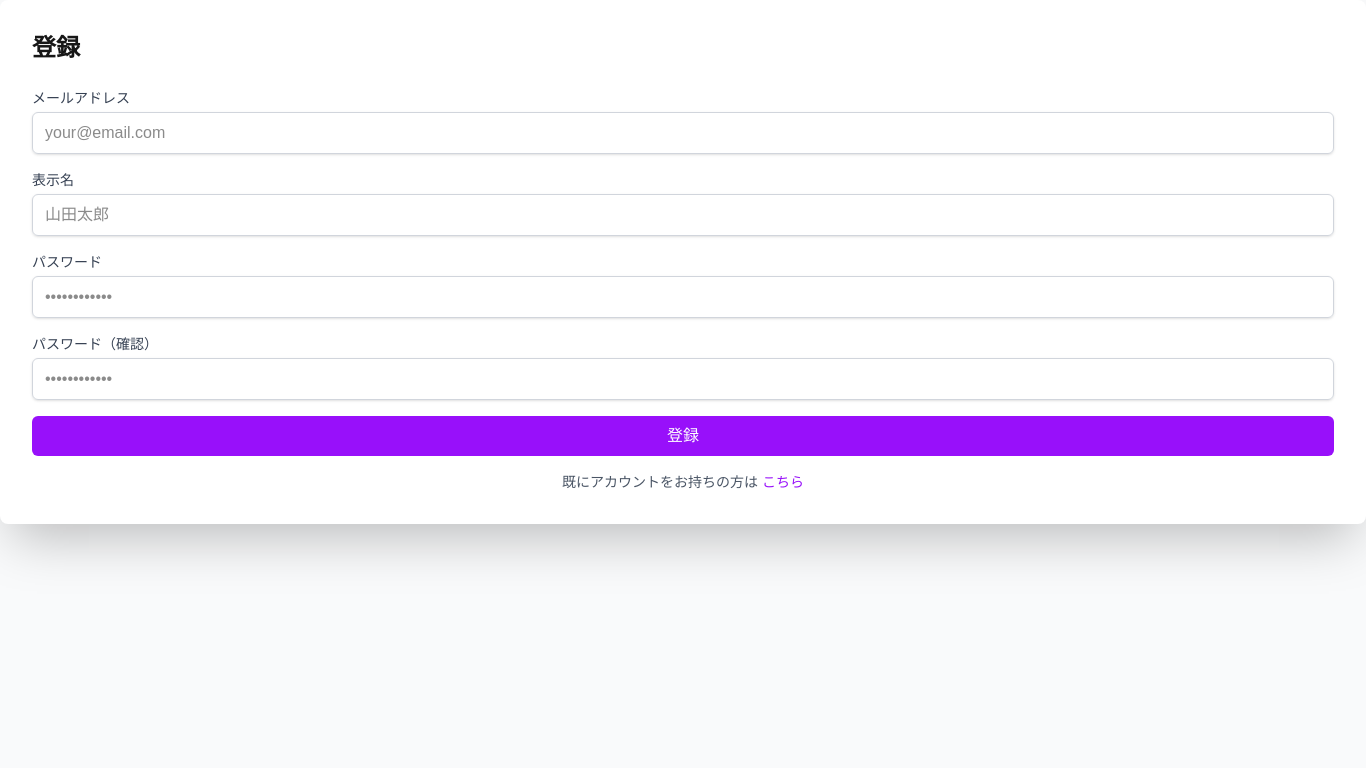
Test: RegisterForm › バリデーションエラー › メールアドレス形式が不正な場合エラーが表示される
Type "invalid-email" into the field labelled "メールアドレス" at (683, 133), box [32,112,1334,154]
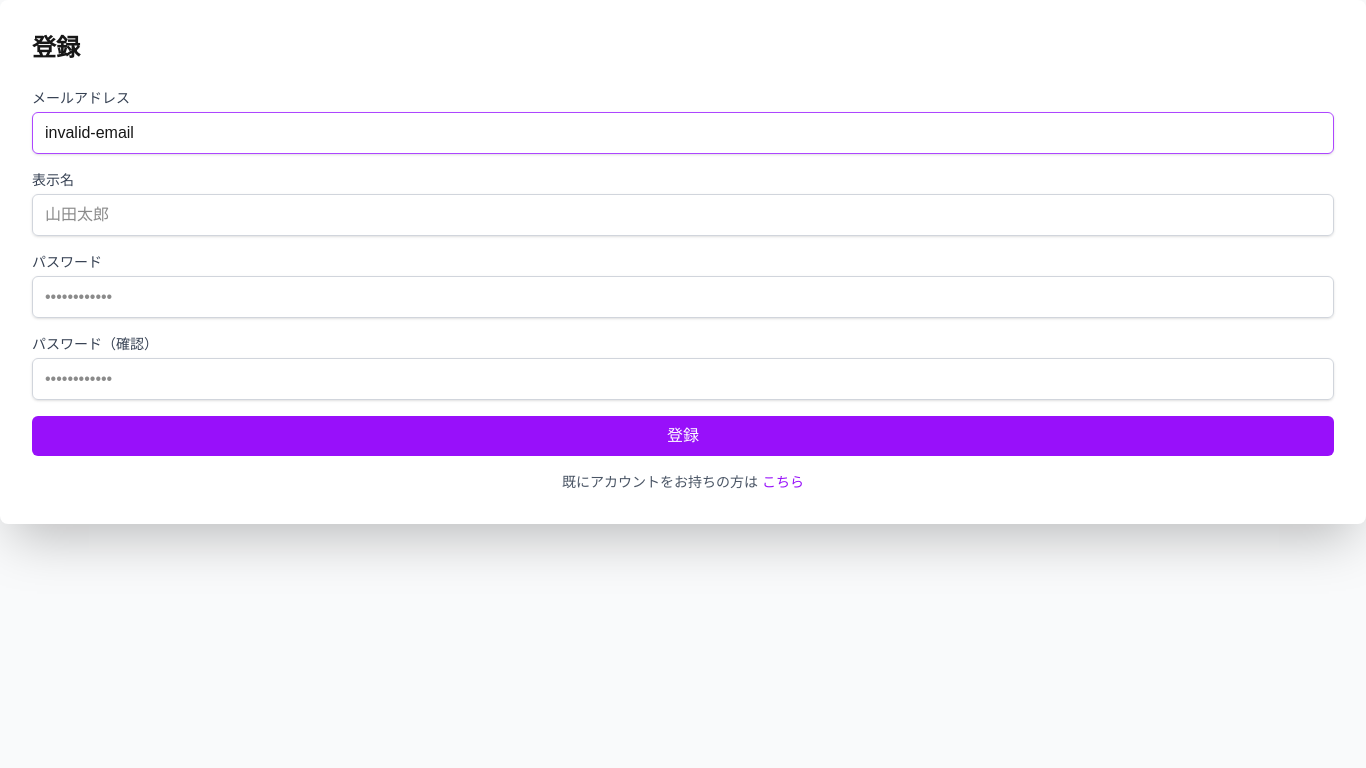
Click the button "登録" at (683, 436), box [32,416,1334,456]
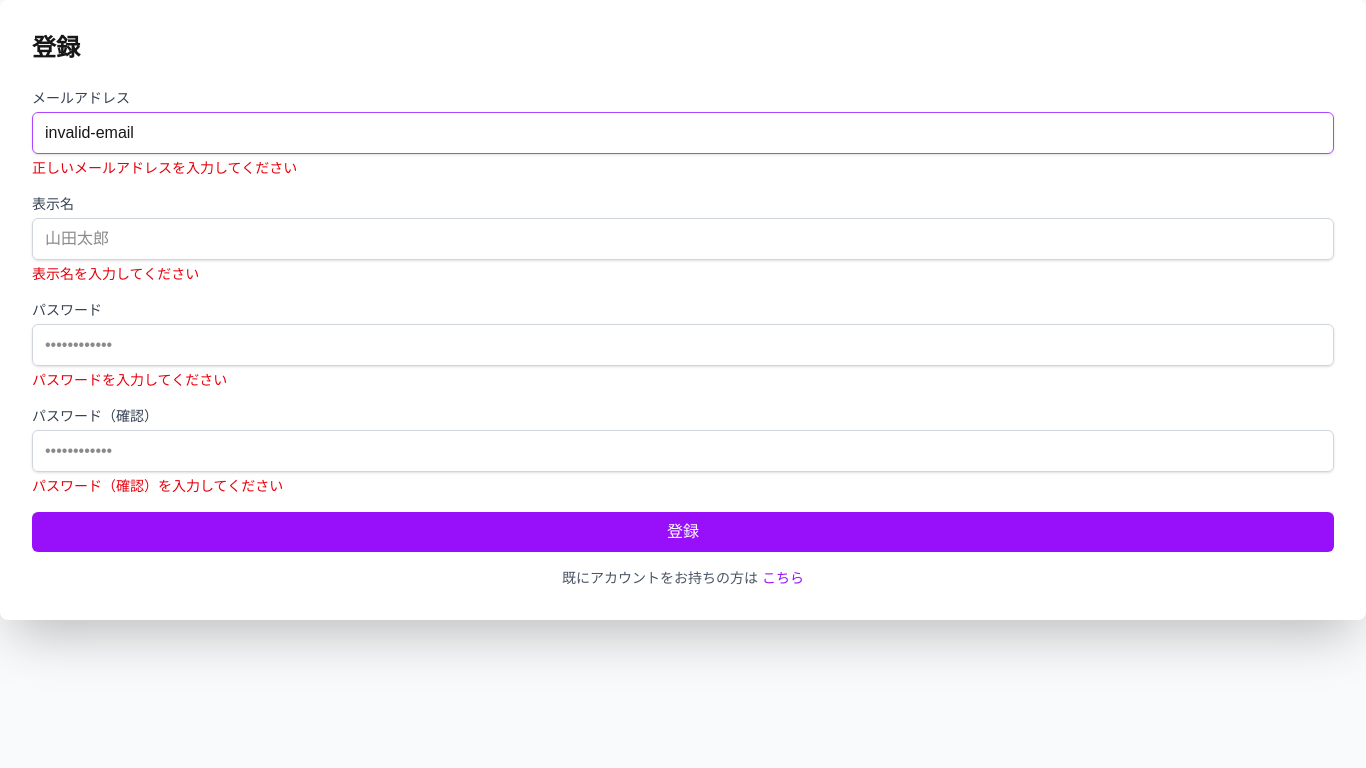
Check: the text "正しいメールアドレスを入力してください" is shown, box [32,160,297,176]
